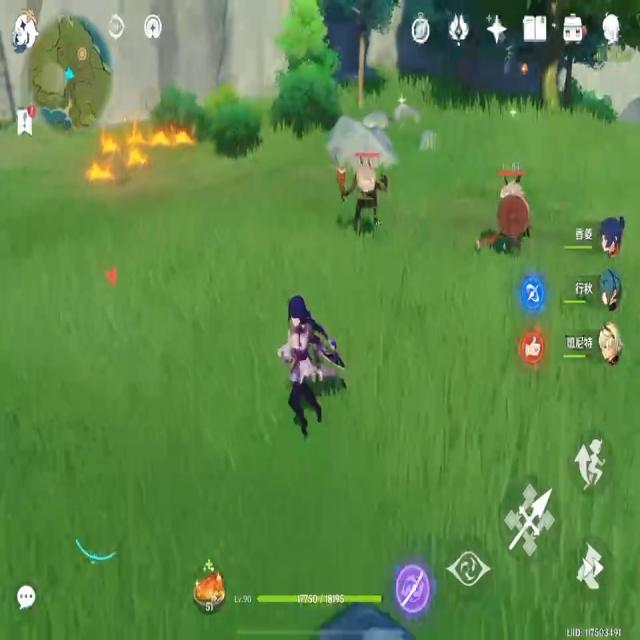genshin-hilichurls: (474, 158, 540, 260), (336, 144, 394, 230)
